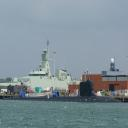submarine: (4, 79, 128, 102)
